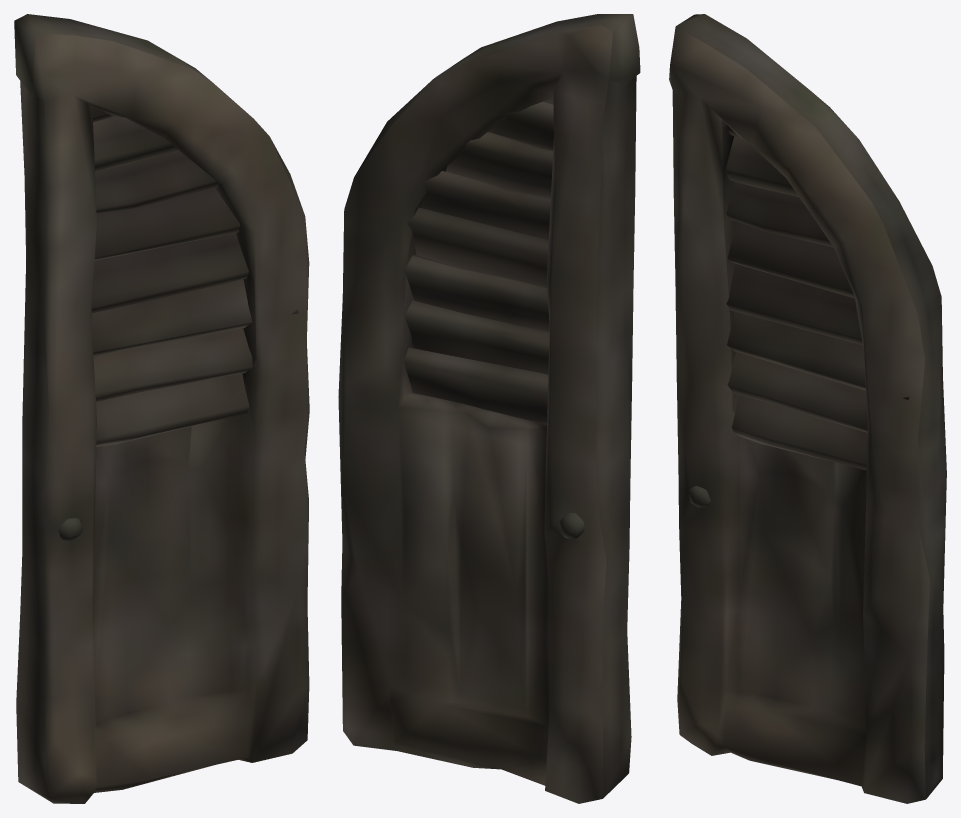
Rendered from Window_01.fbx.
3 renders of one model, left to right at view 1: azimuth 30°, elevation 25°; view 2: azimuth 150°, elevation 25°; view 3: azimuth 330°, elevation 25°, orthographic. The views are drawn at different scales.
Visible parts, largest first — view 1: Window_01; view 2: Window_01; view 3: Window_01.
Boxes of the visible parts, x1,y1,x2,y2 form: Window_01: (14,14,309,803); Window_01: (338,14,640,803); Window_01: (669,14,946,803).
Size of what is drawn, in the model's own units: 48 by 128 by 11.76.
